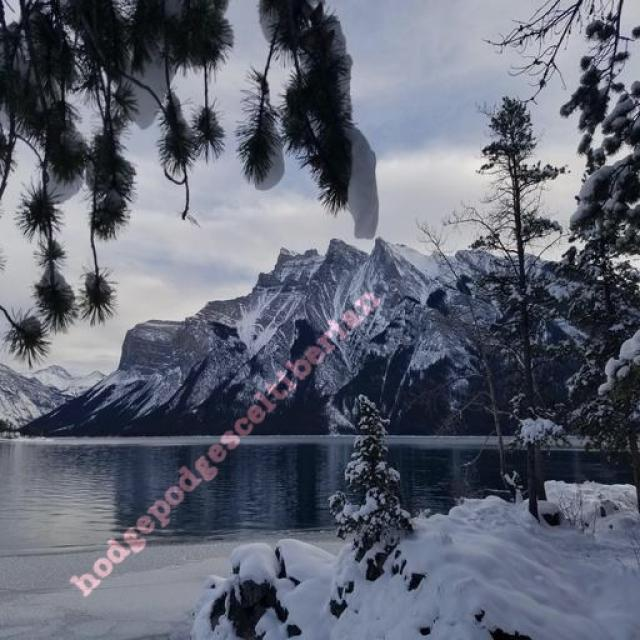watermark: (75, 274, 382, 601)
